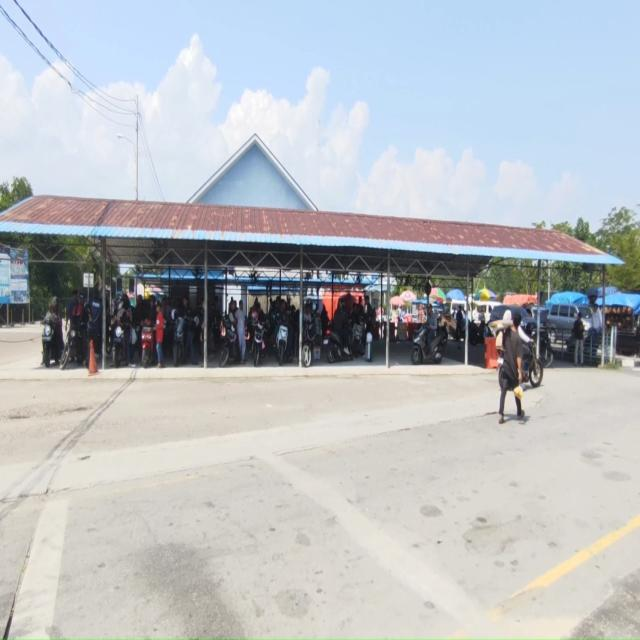Golongan II: (498, 342, 544, 388), (524, 323, 554, 369), (411, 324, 444, 365), (219, 315, 244, 367), (59, 326, 84, 371), (324, 329, 354, 364), (522, 342, 544, 388), (172, 310, 186, 368), (41, 319, 56, 368), (140, 320, 155, 368), (112, 317, 126, 368), (251, 320, 266, 366), (302, 320, 316, 368), (276, 324, 289, 366), (351, 322, 365, 356), (468, 320, 486, 345)
